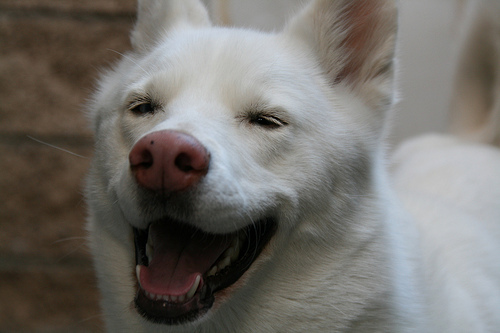dog: (76, 0, 499, 326)
